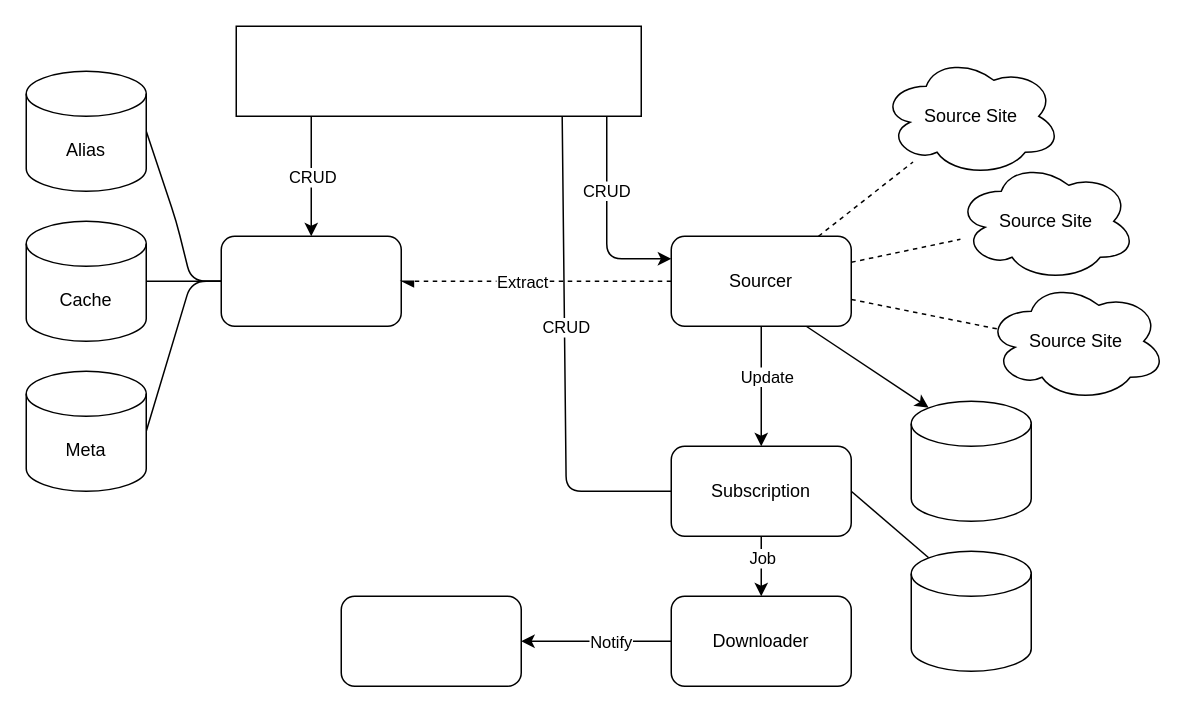
This 1193x713 diagram has some shape labels left out. Each missing label, with the centre of its shape:
API: [438,70]
Entries: [970,460]
Notifier: [430,640]
Resolver: [310,280]
Subs: [970,610]
